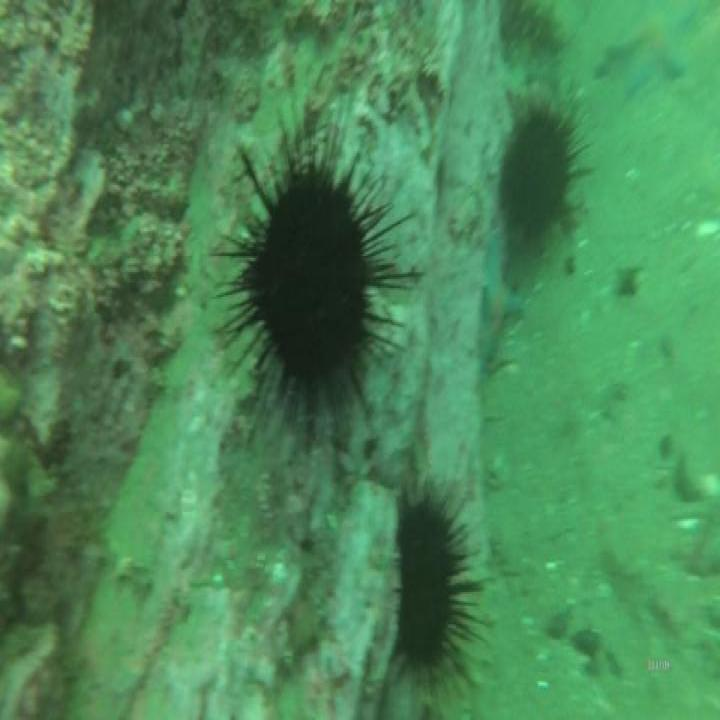echinus: (231, 121, 399, 437), (497, 94, 578, 272), (391, 494, 463, 676)
holothurian: (418, 549, 500, 720)
starfish: (605, 2, 708, 100), (475, 233, 526, 373)
